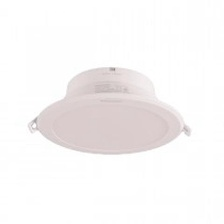light_bulb: (23, 58, 195, 161)
